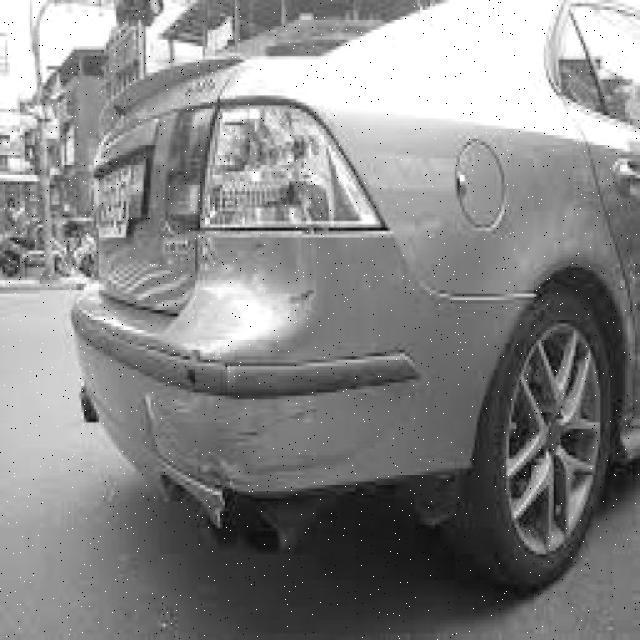car damage: (126, 241, 339, 529)
